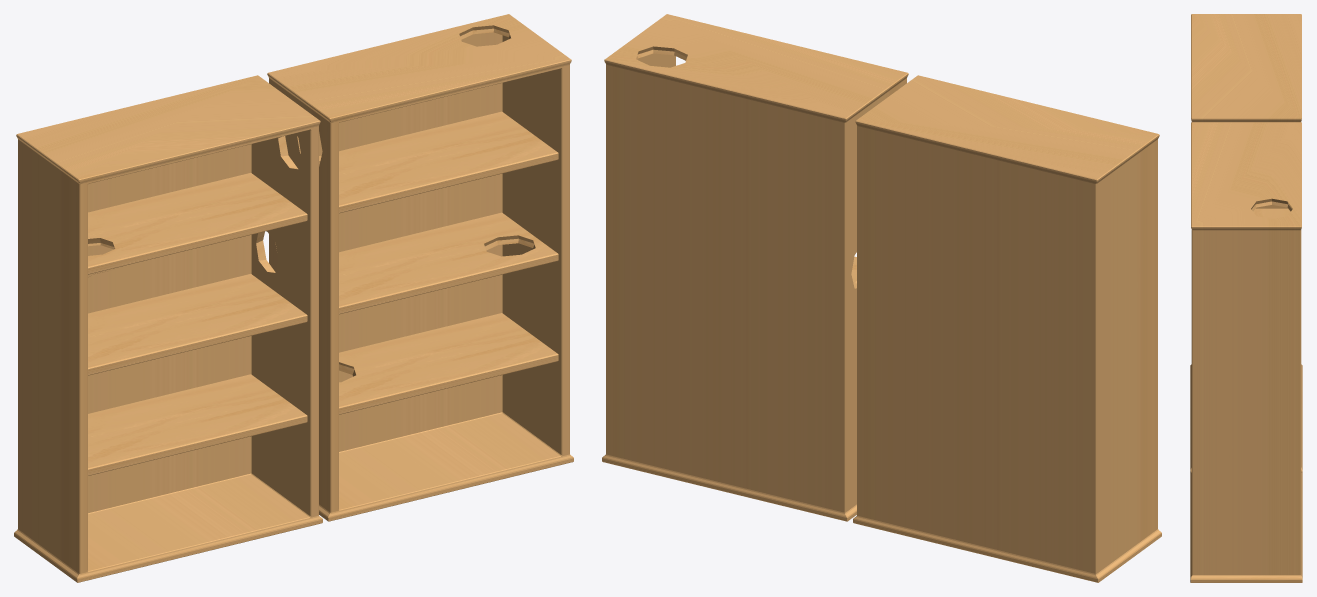
File: ShelvesTextured.glb
3 views of the same model, side by side, from view 1: azimuth 30°, elevation 25°; view 2: azimuth 150°, elevation 25°; view 3: azimuth 270°, elevation 25° (orthographic). The views are drawn at different scales.
Visible parts, largest first — view 1: Cube.006; view 2: Cube.006; view 3: Cube.006.
Part boxes in pixels (left/top/right/bottom): Cube.006: left=14, top=14, right=573, bottom=582; Cube.006: left=602, top=14, right=1161, bottom=582; Cube.006: left=1190, top=14, right=1302, bottom=582.
Size of the model in its own units: 13.08 by 10.13 by 2.9.
2 materials, 2 textured.
